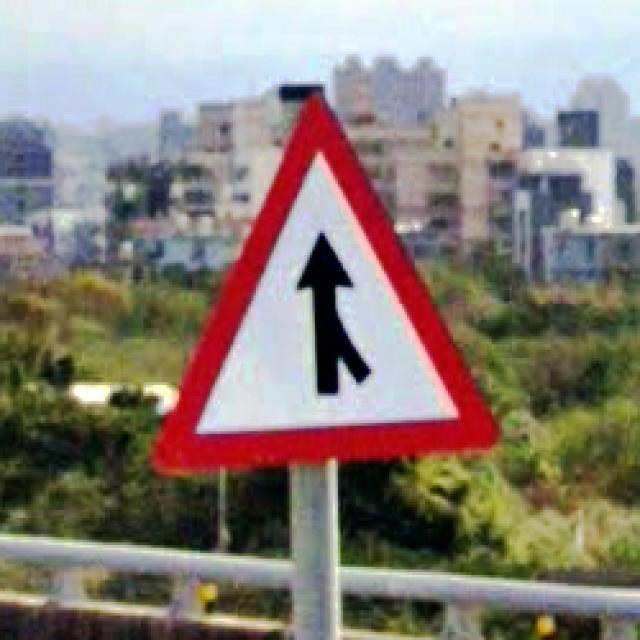rightmerge: (149, 90, 499, 478)
